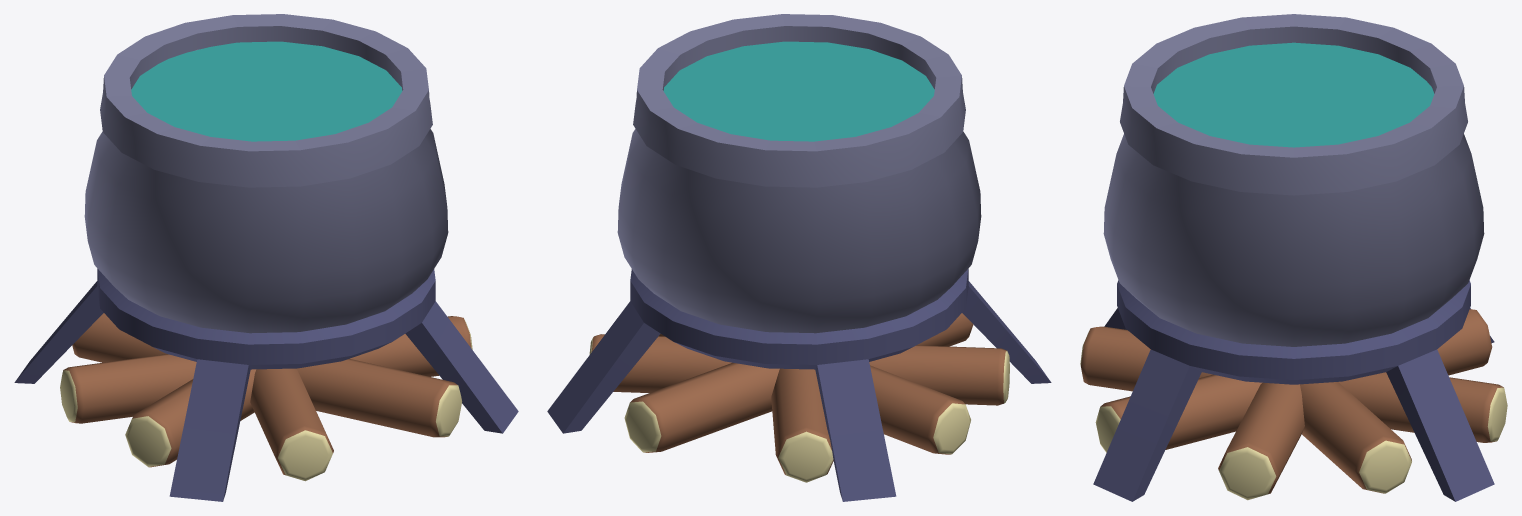
File: SnappingCauldron.fbx
The picture shows the model from 3 angles, left to right: view 1: azimuth 30°, elevation 25°; view 2: azimuth 150°, elevation 25°; view 3: azimuth 270°, elevation 25°; orthographic projection. The views are drawn at different scales.
Visible parts, largest first — view 1: Cauldron_GEO1, Cauldron_State_1_GEO; view 2: Cauldron_GEO1, Cauldron_State_1_GEO; view 3: Cauldron_GEO1, Cauldron_State_1_GEO.
Part boxes in pixels (x1,y1,x2,y2): Cauldron_GEO1: (14,14,518,501); Cauldron_State_1_GEO: (131,41,402,141); Cauldron_GEO1: (547,14,1051,501); Cauldron_State_1_GEO: (663,41,934,141); Cauldron_GEO1: (1080,14,1507,501); Cauldron_State_1_GEO: (1153,42,1434,147).
Size of the model in its own units: 2.03 by 1.68 by 1.99.
